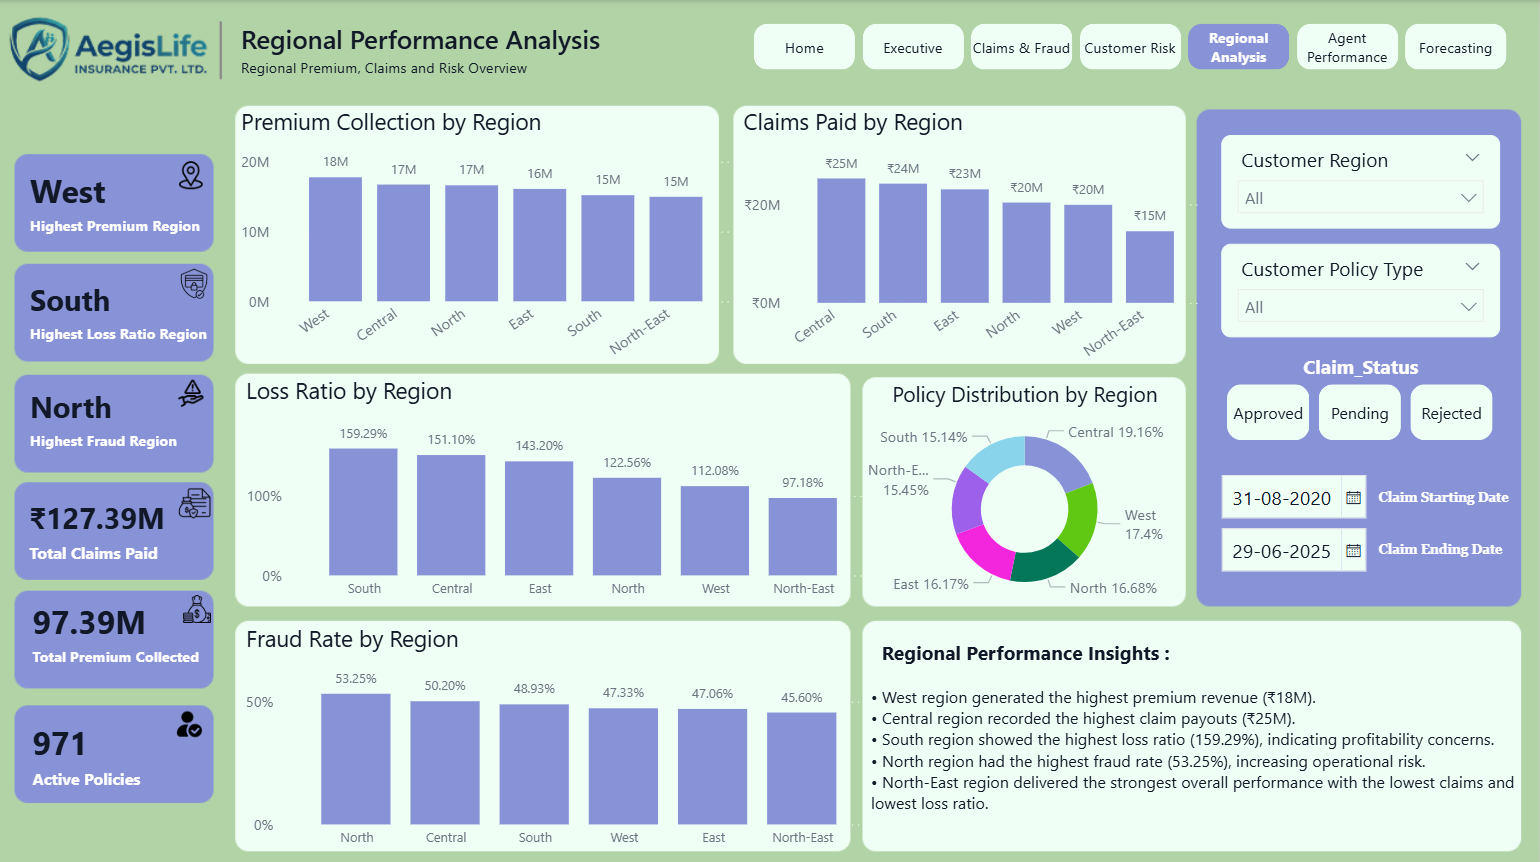

What the dashboard file says about the page in this screenshot:
{"tool":"powerbi","page":{"name":"Regional Analysis","canvas":[1280,720],"ordinal":4},"visuals":[{"type":"slicer","fields":{"Values":["aegis_database master_insurance_analytics.Customer_Region"]},"box":[1016.3,111.6,231.4,77.9],"z":0},{"type":"slicer","fields":{"Values":["aegis_database master_insurance_analytics.Customer_Policy_Type"]},"box":[1016.3,201.7,231.4,77.9],"z":1000},{"type":"advancedSlicerVisual","fields":{"Values":["aegis_database master_insurance_analytics.Claim_Status"]},"box":[1016.3,291.9,231.4,77.9],"z":2000},{"type":"slicer","fields":{"Values":["aegis_database master_insurance_analytics.Claim_Date"]},"box":[1004.7,383.7,152.3,100],"z":3000},{"type":"clusteredColumnChart","title":"Loss Ratio by Region","fields":{"Category":["aegis_database master_insurance_analytics.Customer_Region"],"Y":["Measure_Table.Regional Loss Ratio %"]},"box":[203.2,311.2,530.9,194.3],"z":4000},{"type":"donutChart","title":"Policy Distribution by Region","fields":{"Category":["aegis_database master_insurance_analytics.Customer_Region"],"Y":["Measure_Table.Active Policies"]},"box":[713.1,314.9,281.7,192],"z":5000},{"type":"columnChart","title":"Fraud Rate by Region","fields":{"Y":["Measure_Table.Fraud Ratio %"],"Category":["aegis_database master_insurance_analytics.Customer_Region"]},"box":[203.2,515.7,530.9,195.6],"z":6000},{"type":"textbox","box":[198.8,12.1,309.2,59.4],"z":7000},{"type":"textbox","box":[1141.9,396.5,123.3,50],"z":8000},{"type":"textbox","box":[1141.9,440.7,123.3,50],"z":9000},{"type":"textbox","box":[721.4,524.6,557.6,186.7],"z":10000},{"type":"image","box":[150,222.9,29.3,25],"z":11000},{"type":"image","box":[147.3,314,30.7,24],"z":12000},{"type":"cardVisual","fields":{"Data":["Measure_Table.Total Claims Paid"]},"box":[11.4,379.8,184.2,121.9],"z":13000},{"type":"cardVisual","fields":{"Data":["Measure_Table.Total Premium Collected"]},"box":[2.5,471.2,201.9,106.7],"z":14000},{"type":"cardVisual","fields":{"Data":["Measure_Table.Highest Fraud Region"]},"box":[0,289.6,184.2,116.8],"z":15000},{"type":"cardVisual","fields":{"Data":["Measure_Table.Active Policies"]},"box":[2.5,577.9,181.6,95.3],"z":16000},{"type":"cardVisual","fields":{"Data":["Measure_Table.Highest Loss Ratio Region"]},"box":[0,201.9,213.4,113],"z":17000},{"type":"cardVisual","fields":{"Data":["Measure_Table.Highest Premium Region"]},"box":[0,97.8,204.5,141],"z":18000},{"type":"image","box":[149.9,403.9,30.5,26.7],"z":19000},{"type":"image","box":[147.3,133.4,30.5,22.9],"z":20000},{"type":"image","box":[150,492.9,34.3,22.9],"z":21000},{"type":"image","box":[142.1,587.9,39.3,25.7],"z":22000},{"type":"columnChart","title":"Premium Collection by Region","fields":{"Category":["aegis_database master_insurance_analytics.Customer_Region"],"Y":["Measure_Table.Total Premium Collected"]},"box":[199.4,87.6,416.6,229.9],"z":23000},{"type":"columnChart","title":"Claims Paid by Region","fields":{"Category":["aegis_database master_insurance_analytics.Customer_Region"],"Y":["Measure_Table.Total Claims Paid"]},"box":[616,87.6,388.6,231.2],"z":24000},{"type":"pageNavigator","box":[628.8,20,627.5,38.8],"z":25000}]}

Visuals, with their boxes in screenshot pixels (x1, y1, x2, y2), scaled from the page's 1280x720 canvas onto the 1540x862 screenshot:
slicer - aegis_database master_insurance_analytics.Customer_Region: rect(1223, 134, 1501, 227)
slicer - aegis_database master_insurance_analytics.Customer_Policy_Type: rect(1223, 241, 1501, 335)
advancedSlicerVisual - aegis_database master_insurance_analytics.Claim_Status: rect(1223, 349, 1501, 443)
slicer - aegis_database master_insurance_analytics.Claim_Date: rect(1209, 459, 1392, 579)
"Loss Ratio by Region" clusteredColumnChart: rect(244, 373, 883, 605)
"Policy Distribution by Region" donutChart: rect(858, 377, 1197, 607)
"Fraud Rate by Region" columnChart: rect(244, 617, 883, 852)
textbox: rect(239, 14, 611, 86)
textbox: rect(1374, 475, 1522, 535)
textbox: rect(1374, 528, 1522, 587)
textbox: rect(868, 628, 1539, 852)
image: rect(180, 267, 216, 297)
image: rect(177, 376, 214, 405)
cardVisual - Measure_Table.Total Claims Paid: rect(14, 455, 235, 601)
cardVisual - Measure_Table.Total Premium Collected: rect(3, 564, 246, 692)
cardVisual - Measure_Table.Highest Fraud Region: rect(0, 347, 222, 487)
cardVisual - Measure_Table.Active Policies: rect(3, 692, 221, 806)
cardVisual - Measure_Table.Highest Loss Ratio Region: rect(0, 242, 257, 377)
cardVisual - Measure_Table.Highest Premium Region: rect(0, 117, 246, 286)
image: rect(180, 484, 217, 516)
image: rect(177, 160, 214, 187)
image: rect(180, 590, 222, 618)
image: rect(171, 704, 218, 735)
"Premium Collection by Region" columnChart: rect(240, 105, 741, 380)
"Claims Paid by Region" columnChart: rect(741, 105, 1209, 382)
pageNavigator: rect(757, 24, 1511, 70)
